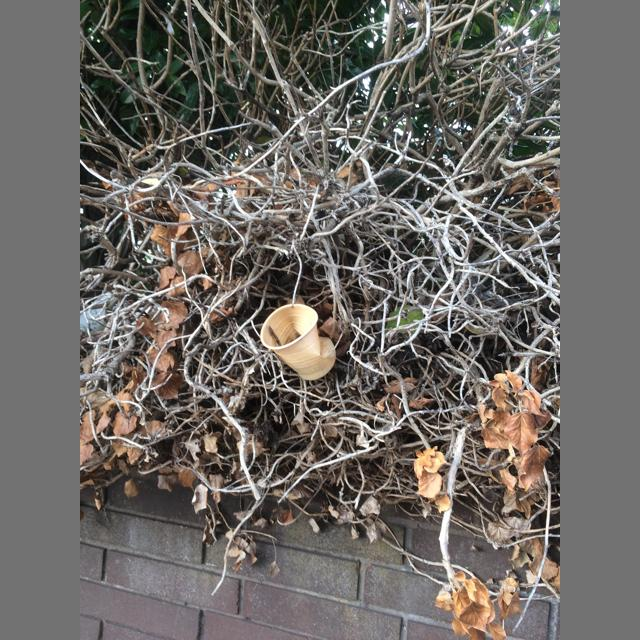litter: (260, 304, 336, 380)
